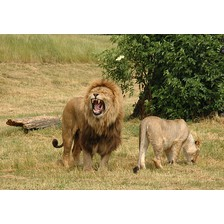lion: (52, 78, 124, 172), (133, 115, 201, 173)
